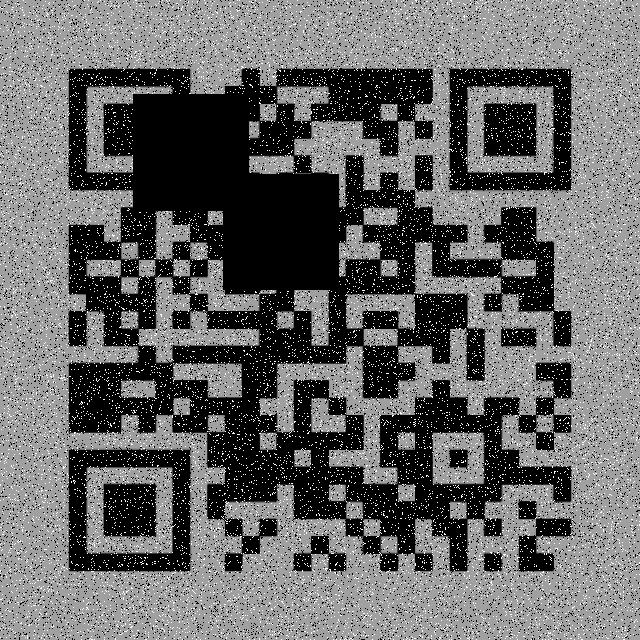QR_CODE: (52, 54, 596, 586)
